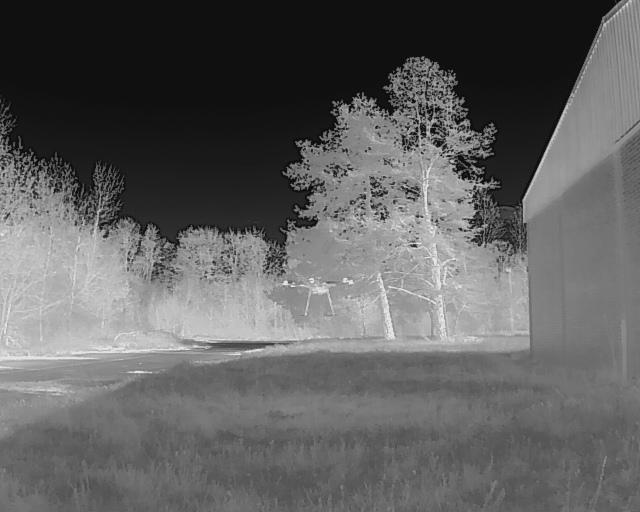drone: (278, 265, 355, 319)
